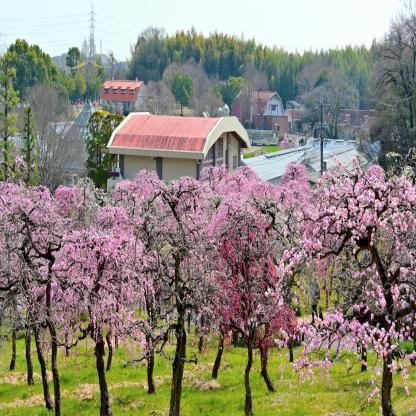Ume: (281, 154, 416, 416), (0, 143, 153, 366), (80, 166, 214, 343), (201, 160, 310, 368)
